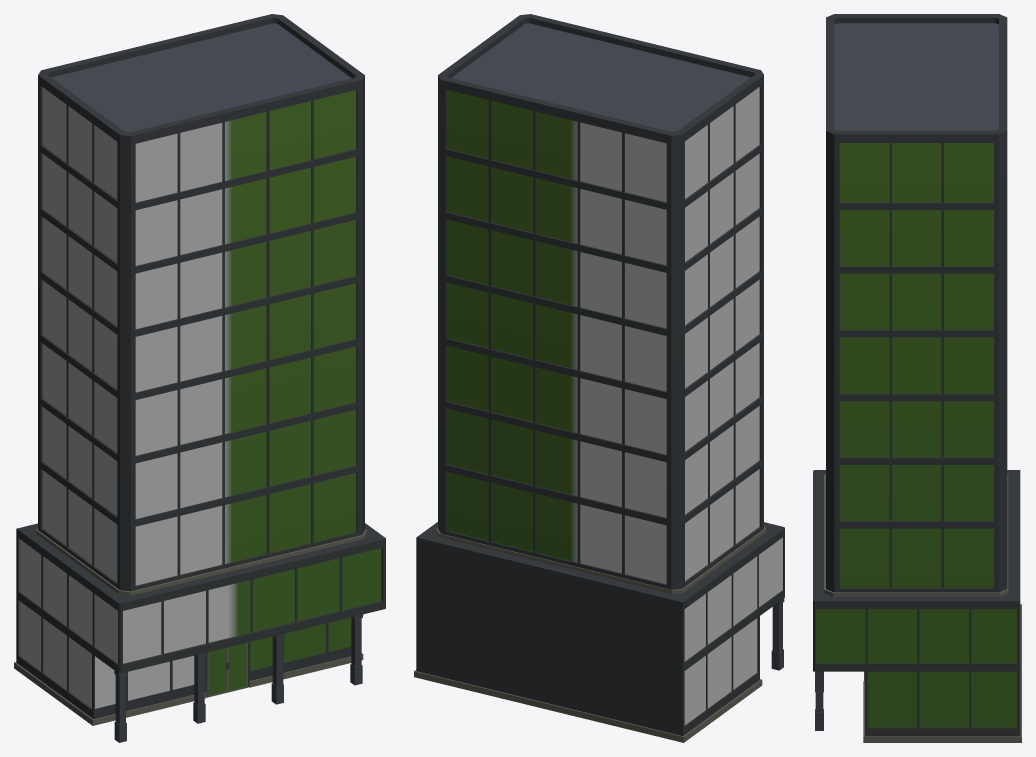
Rendered from House_47.fbx.
3 renders of one model, left to right at view 1: azimuth 30°, elevation 25°; view 2: azimuth 150°, elevation 25°; view 3: azimuth 270°, elevation 25°, orthographic.
Visible parts, largest first — view 1: House_47; view 2: House_47; view 3: House_47.
Boxes of the visible parts, x1,y1,x2,y2 form: House_47: [14, 14, 385, 742]; House_47: [414, 14, 784, 742]; House_47: [813, 14, 1021, 742].
Size of the model in its own units: 12.14 by 25.67 by 8.06.
